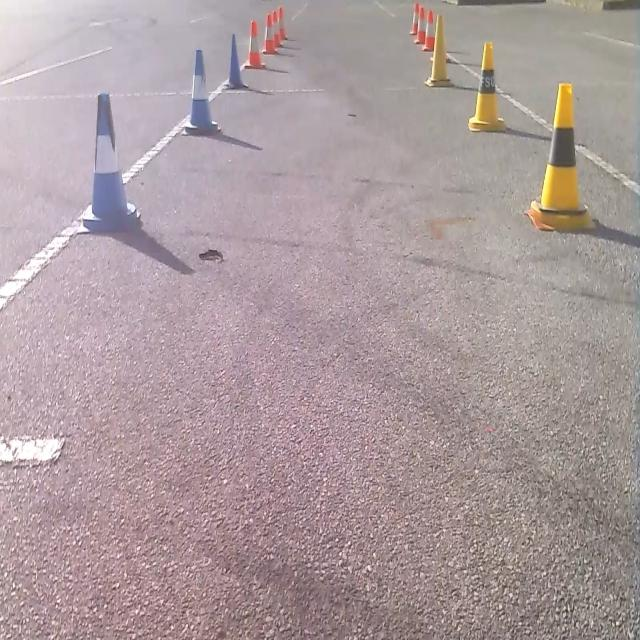blue_cone: (81, 91, 140, 233), (184, 48, 218, 133), (225, 32, 248, 89)
orange_cone: (243, 19, 265, 69), (262, 13, 277, 53), (422, 9, 435, 51), (270, 10, 282, 48), (414, 6, 425, 43), (409, 1, 419, 35), (278, 5, 286, 39)
yellow_cone: (528, 81, 593, 231), (468, 39, 506, 132), (424, 13, 452, 87)
